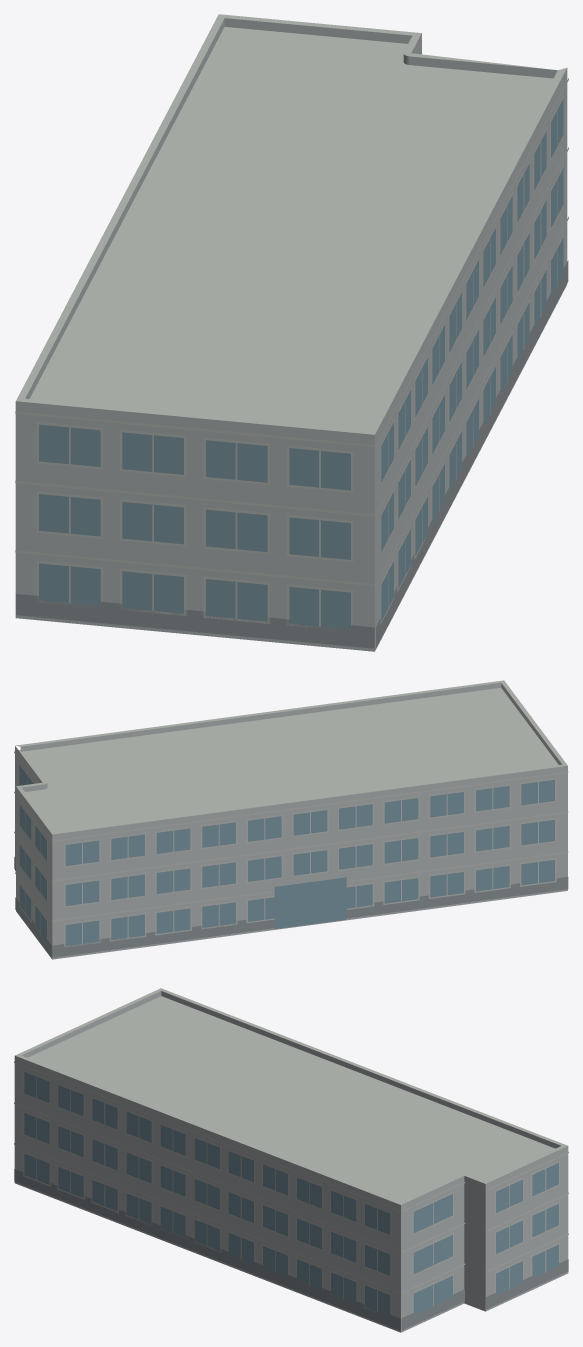
File: public-1bb09e76-f9d6-43c7-a6e3-8ff67cf93b68.glb
3 renders of one model, top to bottom at view 1: azimuth 30°, elevation 25°; view 2: azimuth 150°, elevation 25°; view 3: azimuth 270°, elevation 25°, orthographic. The views are drawn at different scales.
Visible parts, largest first — view 1: public-1bb09e76-f9d6-43c7-a6e3-8ff67cf93b68; view 2: public-1bb09e76-f9d6-43c7-a6e3-8ff67cf93b68; view 3: public-1bb09e76-f9d6-43c7-a6e3-8ff67cf93b68.
Boxes of the visible parts, x1,y1,x2,y2 form: public-1bb09e76-f9d6-43c7-a6e3-8ff67cf93b68: (15, 14, 568, 651); public-1bb09e76-f9d6-43c7-a6e3-8ff67cf93b68: (14, 680, 568, 959); public-1bb09e76-f9d6-43c7-a6e3-8ff67cf93b68: (14, 988, 568, 1332).
Size of the model in its own units: 33.44 by 9.15 by 36.04.
